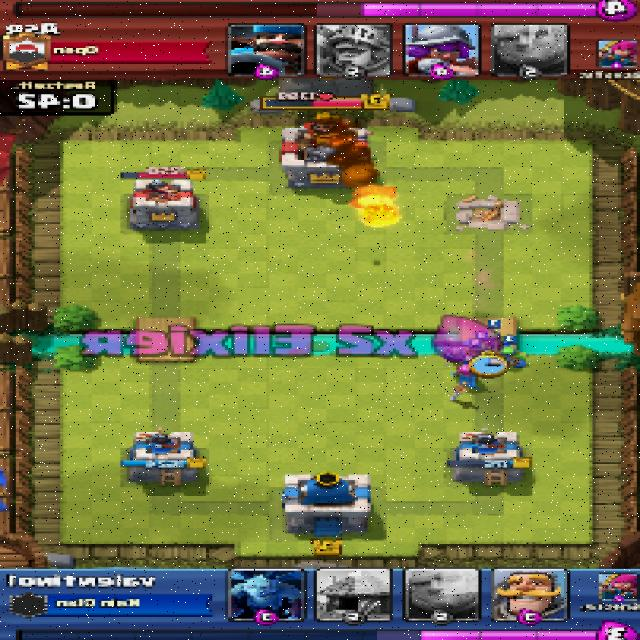Enemy-Fireball: (351, 187, 405, 228)
Player-Archer: (451, 365, 482, 388)
Player-Musketeer: (436, 338, 485, 369)
Player-SpearGoblin: (498, 346, 523, 368), (486, 332, 506, 350)
